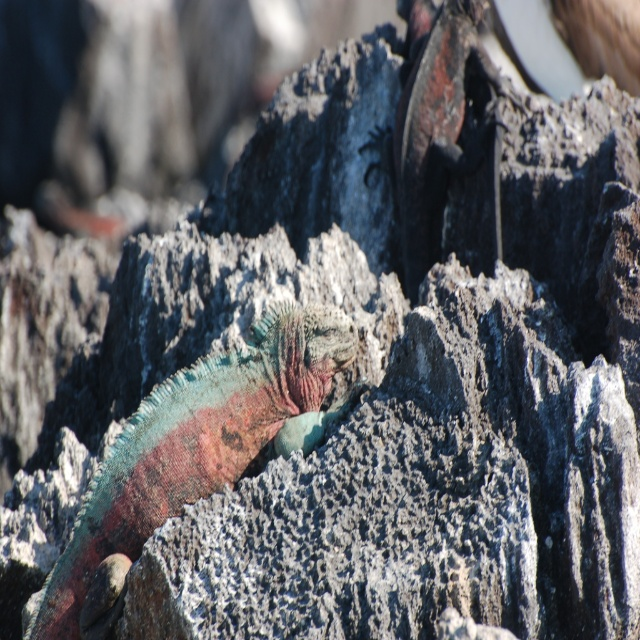Lizard: (61, 288, 376, 611), (394, 0, 534, 300)
